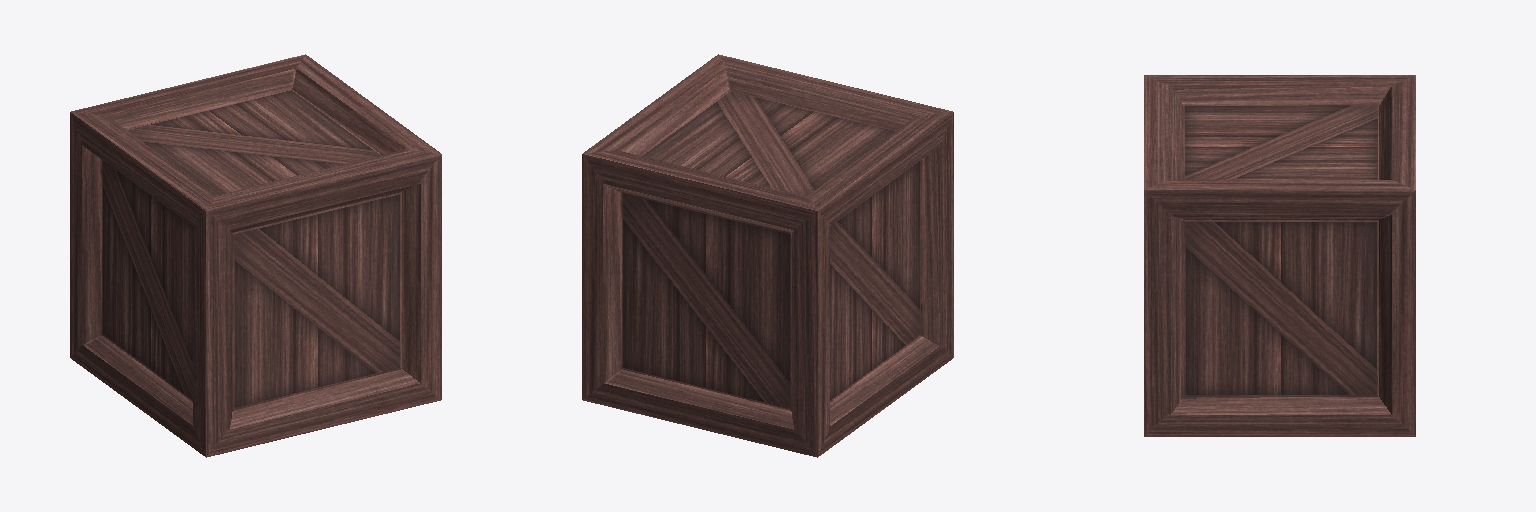
3 views of the same model, side by side, from view 1: azimuth 30°, elevation 25°; view 2: azimuth 150°, elevation 25°; view 3: azimuth 270°, elevation 25° (orthographic).
Visible parts, largest first — view 1: Cube; view 2: Cube; view 3: Cube.
Part boxes in pixels (left/top/right/bottom): Cube: left=70, top=54, right=441, bottom=457; Cube: left=582, top=54, right=953, bottom=457; Cube: left=1144, top=75, right=1415, bottom=436.
Bounding box in the file's own units: 2.25 × 2.25 × 2.25.
Materials: 1 (1 with a texture image).